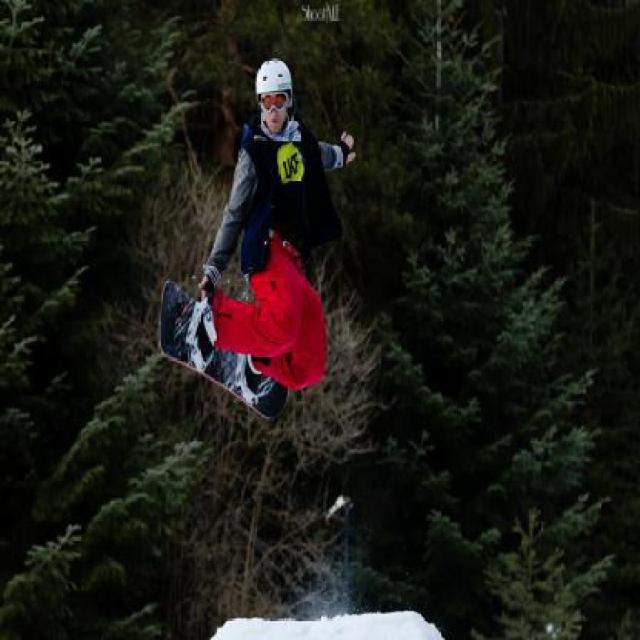Person: (177, 67, 346, 435)
